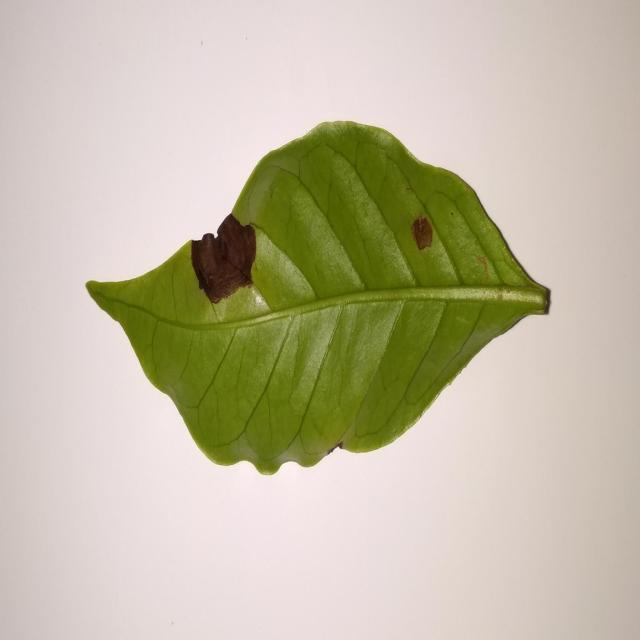phoma: (173, 214, 257, 309), (398, 206, 433, 251)
